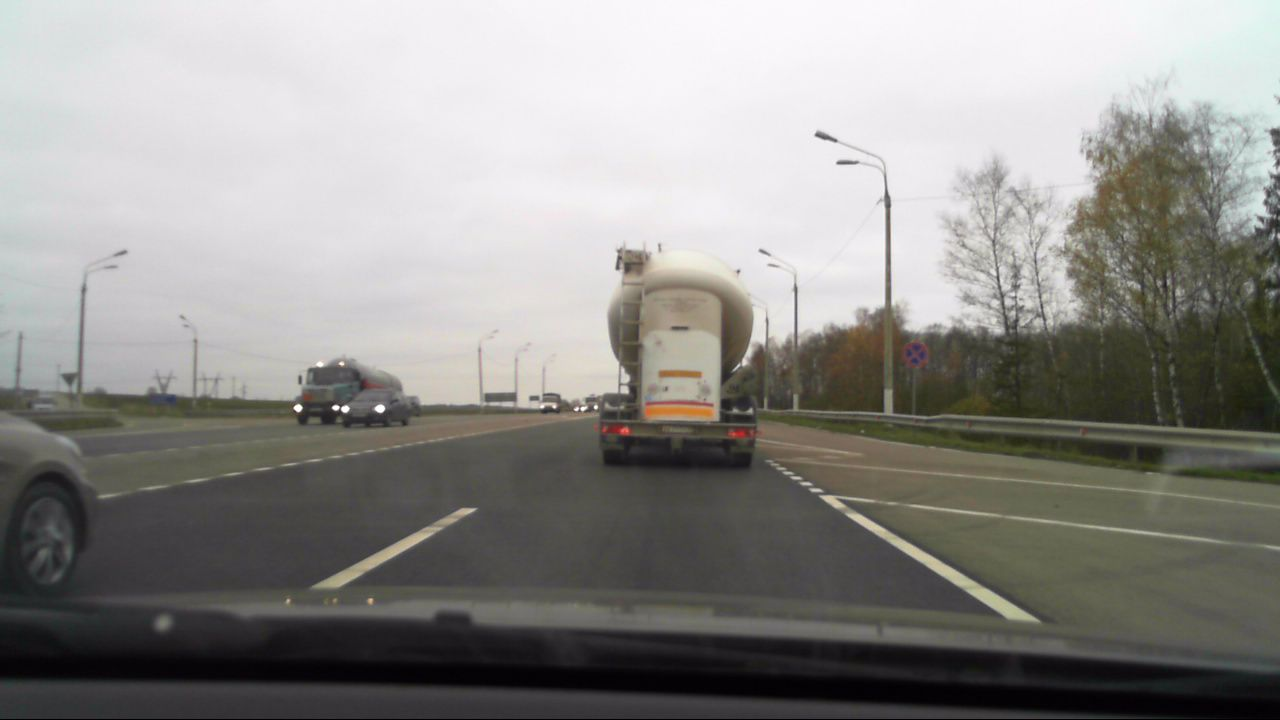No Parking: (896, 339, 930, 370)
